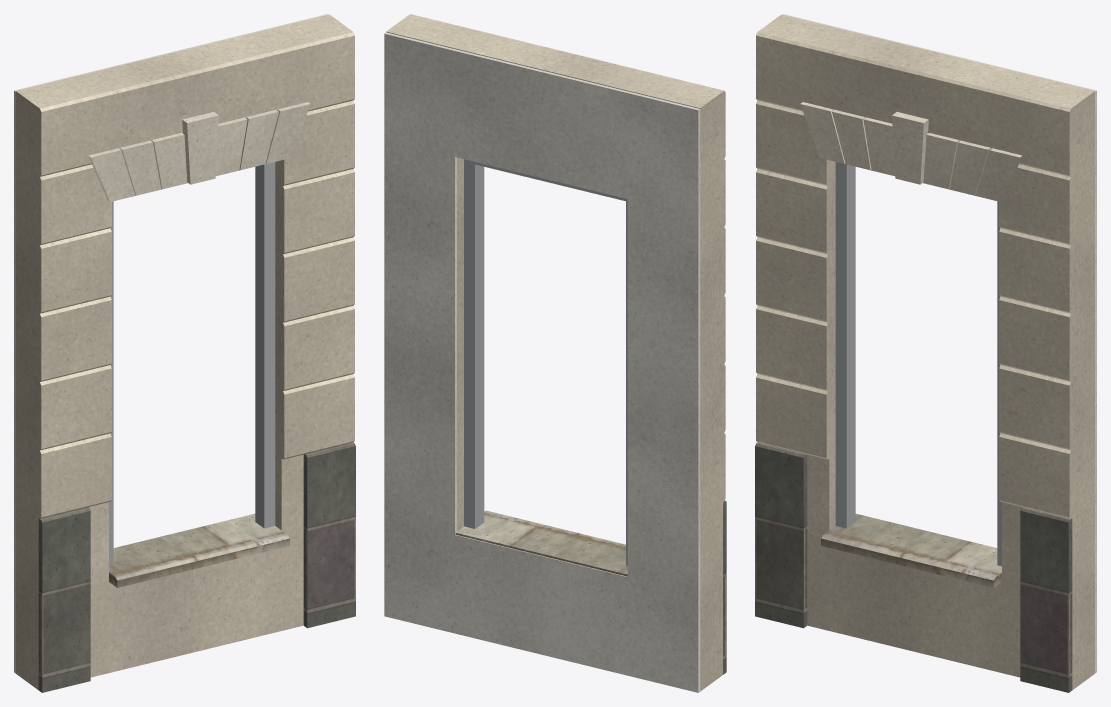
The model's file is g_wall_back_door.glb.
3 renders of one model, left to right at view 1: azimuth 30°, elevation 25°; view 2: azimuth 150°, elevation 25°; view 3: azimuth 330°, elevation 25°, orthographic.
Parts seen in each view (by area): view 1: g_wall_back_door_rust, g_wall_back_door_plinth, g_wall_back_door_trim, g_wall_back_door_steel, g_wall_back_door_stone2, g_wall_back_door_plaster; view 2: g_wall_back_door_plaster, g_wall_back_door_rust, g_wall_back_door_steel, g_wall_back_door_stone2, g_wall_back_door_plinth; view 3: g_wall_back_door_rust, g_wall_back_door_plinth, g_wall_back_door_trim, g_wall_back_door_steel, g_wall_back_door_stone2, g_wall_back_door_plaster.
Part boxes in pixels (<box>): g_wall_back_door_rust: <box>16,14,354,689</box>; g_wall_back_door_plinth: <box>38,442,355,692</box>; g_wall_back_door_trim: <box>88,102,310,201</box>; g_wall_back_door_steel: <box>109,162,275,566</box>; g_wall_back_door_stone2: <box>109,513,289,587</box>; g_wall_back_door_plaster: <box>14,14,328,673</box>; g_wall_back_door_plaster: <box>384,32,700,692</box>; g_wall_back_door_rust: <box>386,14,725,691</box>; g_wall_back_door_steel: <box>464,159,627,565</box>; g_wall_back_door_stone2: <box>455,510,627,576</box>; g_wall_back_door_plinth: <box>723,500,726,674</box>; g_wall_back_door_rust: <box>756,14,1094,689</box>; g_wall_back_door_plinth: <box>755,442,1072,692</box>; g_wall_back_door_trim: <box>800,102,1022,201</box>; g_wall_back_door_steel: <box>835,162,1001,566</box>; g_wall_back_door_stone2: <box>821,513,1001,587</box>; g_wall_back_door_plaster: <box>782,14,1096,673</box>.
Bounding box in the file's own units: 2 × 3.55 × 0.36.
6 materials, 5 textured.
